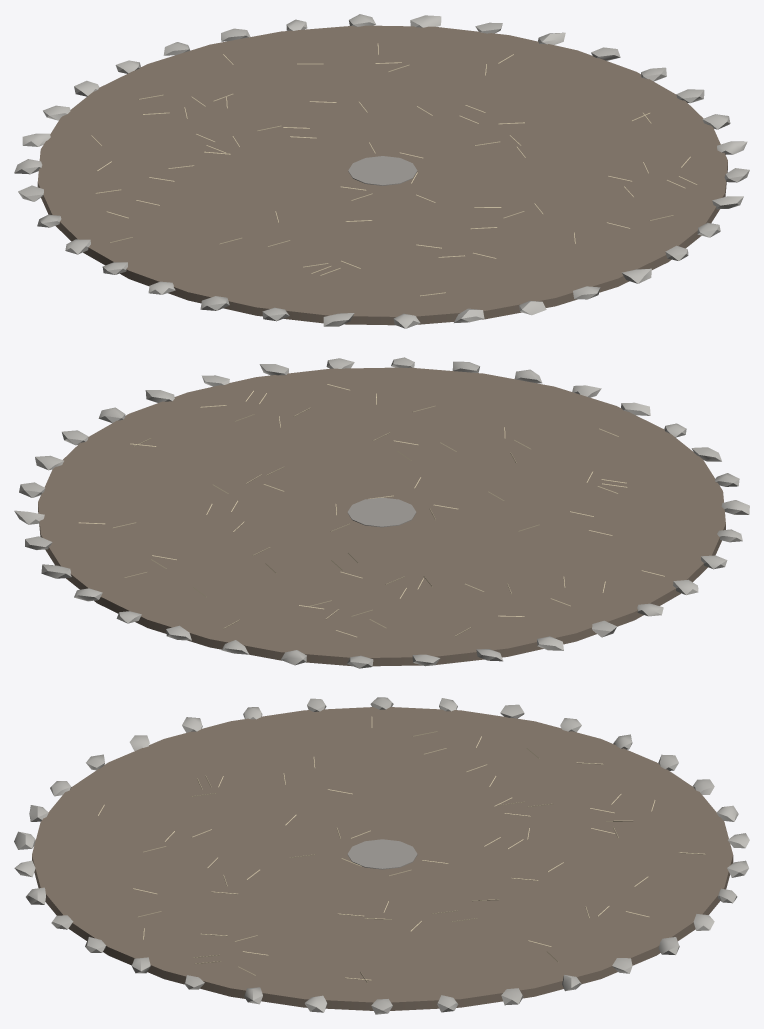
File: threshing_floor.gltf
3 views of the same model, one above another, from view 1: azimuth 30°, elevation 25°; view 2: azimuth 150°, elevation 25°; view 3: azimuth 270°, elevation 25° (orthographic).
Parts seen in each view (by area): view 1: Body; view 2: Body; view 3: Body.
Part boxes in pixels (x1=…): Body: x1=14, y1=14, x2=749, y2=328; Body: x1=14, y1=357, x2=749, y2=668; Body: x1=14, y1=697, x2=749, y2=1014.
Bounding box in the file's own units: 19.19 × 0.4395 × 18.89.
